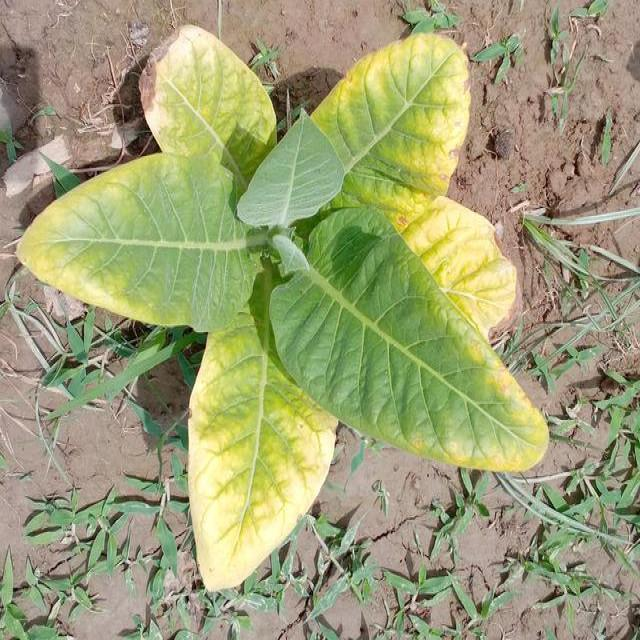crop: (51, 49, 544, 588)
